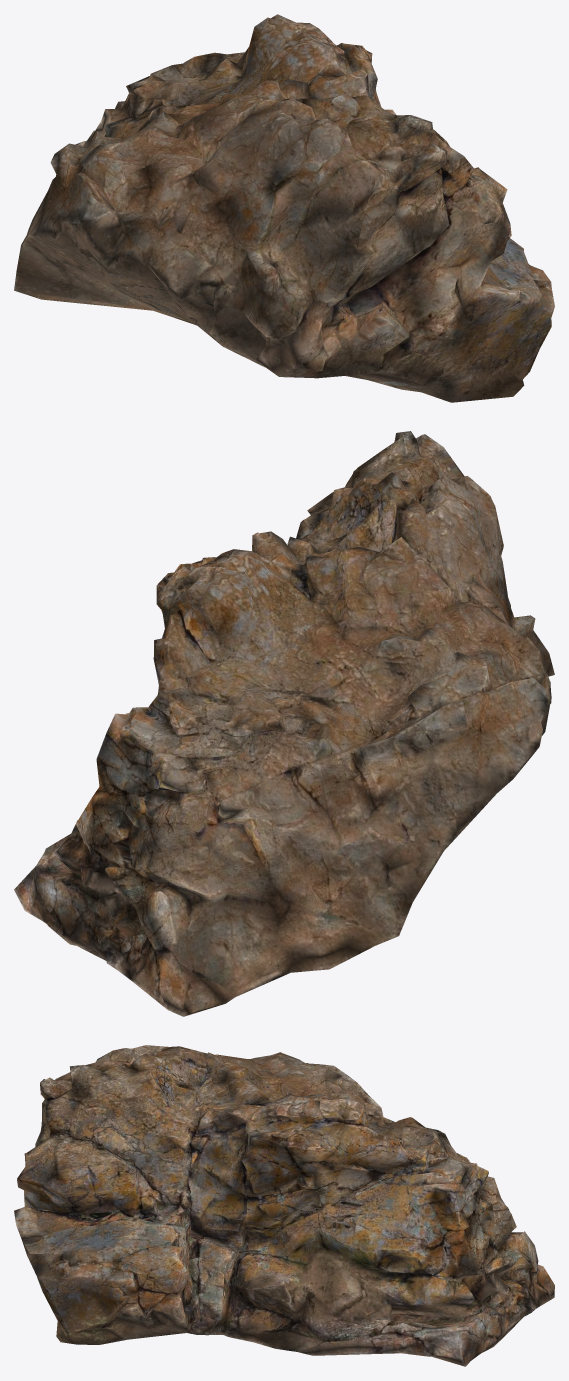
File: boulder_01.glb
The picture shows the model from 3 angles, top to bottom: view 1: azimuth 30°, elevation 25°; view 2: azimuth 150°, elevation 25°; view 3: azimuth 270°, elevation 25°; orthographic projection. The views are drawn at different scales.
Visible parts, largest first — view 1: boulder_01; view 2: boulder_01; view 3: boulder_01.
Part boxes in pixels (left/top/right/bottom): boulder_01: left=14, top=14, right=554, bottom=402; boulder_01: left=14, top=431, right=554, bottom=1016; boulder_01: left=14, top=1045, right=554, bottom=1366.
Size of the model in its own units: 1.27 by 0.9799 by 1.82.
1 material, 1 textured.
